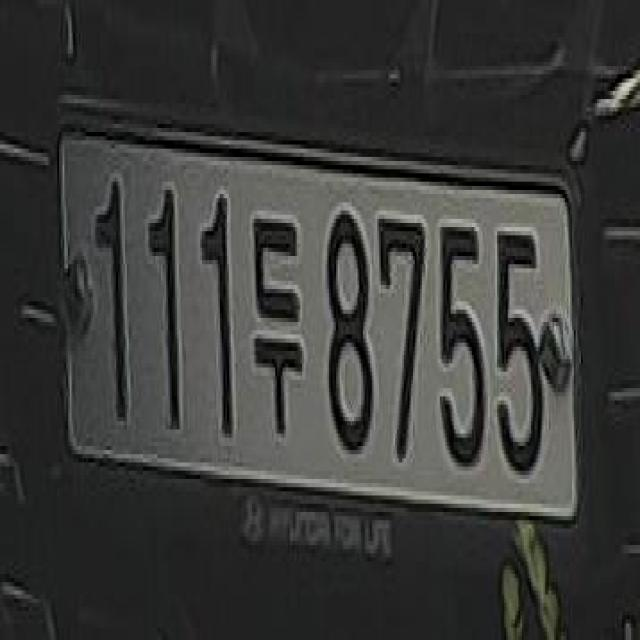illegal_plate: (54, 113, 582, 560)
